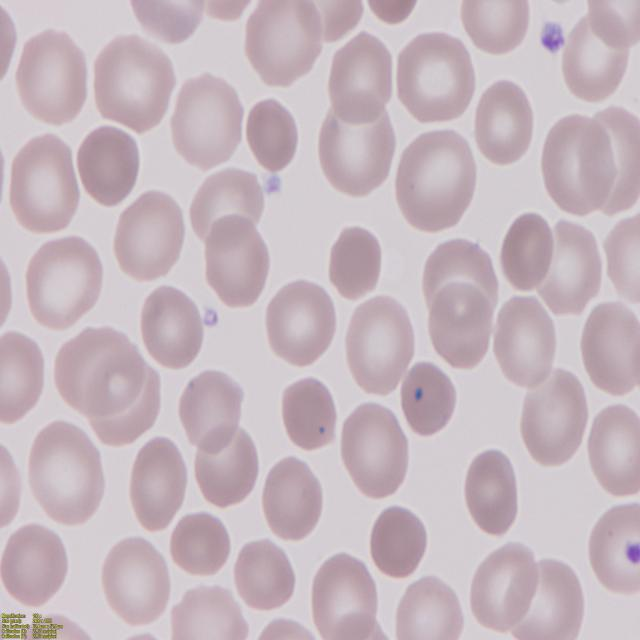Platelets: (540, 19, 568, 56)
RBC: (392, 124, 482, 234), (90, 31, 180, 132), (22, 422, 104, 530), (390, 31, 476, 132), (340, 292, 420, 398), (4, 131, 82, 237), (21, 236, 107, 332), (316, 103, 401, 200), (109, 185, 189, 286), (538, 110, 614, 216), (338, 402, 416, 505), (15, 29, 94, 130), (242, 0, 326, 92), (172, 73, 248, 174), (516, 366, 589, 469), (264, 278, 341, 374), (556, 12, 636, 104), (541, 214, 608, 320), (100, 532, 173, 628), (200, 212, 270, 310), (325, 29, 397, 124), (493, 290, 562, 389), (468, 540, 540, 634), (125, 434, 190, 533), (577, 300, 640, 402), (191, 426, 264, 514), (1, 518, 69, 612), (173, 365, 244, 451), (311, 549, 378, 640), (428, 287, 498, 373), (260, 456, 326, 546), (138, 285, 206, 372), (474, 80, 538, 169), (232, 534, 299, 616), (585, 403, 640, 502), (587, 496, 640, 597), (169, 507, 236, 585), (462, 453, 520, 543), (498, 212, 558, 297), (390, 574, 466, 640), (399, 357, 458, 439), (459, 0, 540, 57), (0, 333, 47, 426), (169, 581, 243, 640), (126, 0, 212, 46), (605, 210, 640, 308), (585, 0, 640, 46), (0, 434, 25, 534), (358, 0, 428, 28), (250, 616, 318, 640)
Spherocyte: (78, 122, 145, 208), (276, 372, 339, 453), (369, 502, 432, 582), (326, 224, 386, 301), (244, 96, 303, 174)
